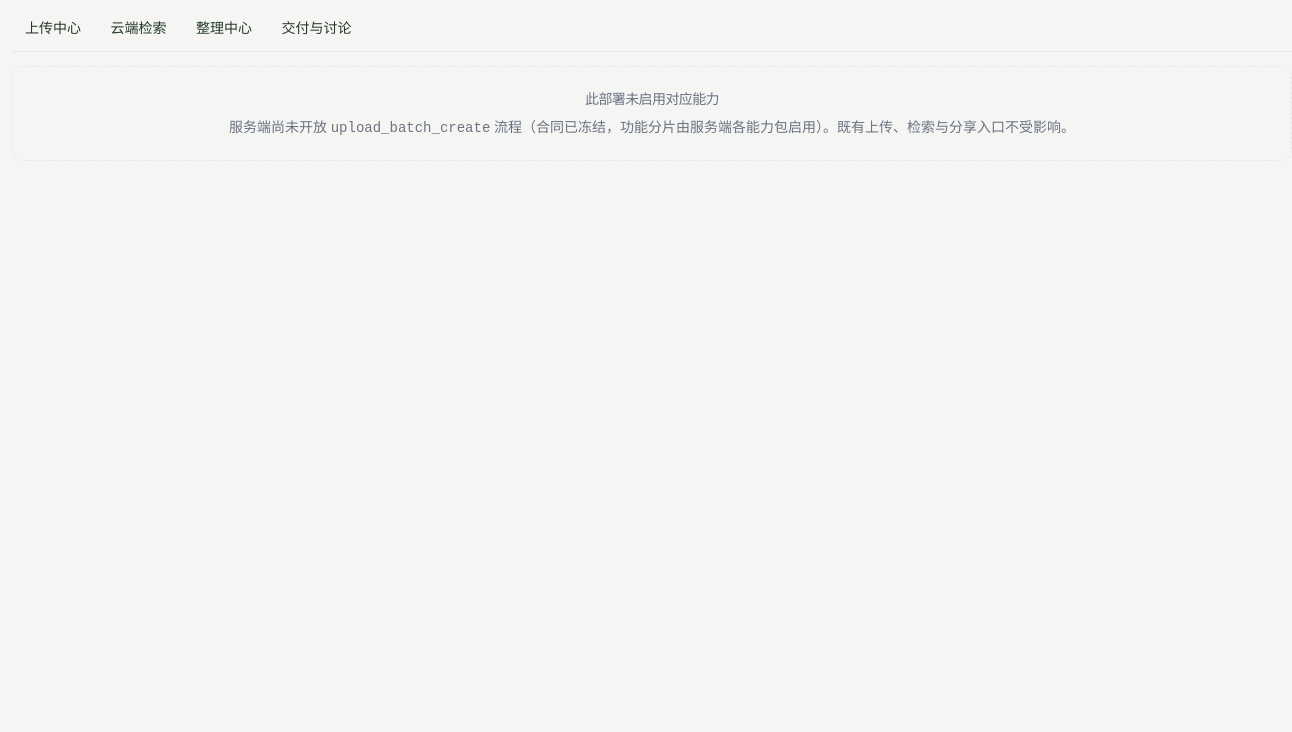
it: TestFPPlatformConsumers/page › degrades each center honestly when the deployment has not enabled the surface
expect the heading "此部署未启用对应能力" is shown: met, box left=585, top=90, right=719, bottom=107
expect the text "upload_batch_create" is shown: met, box left=331, top=120, right=490, bottom=136
Click the tab "云端检索": click(138, 28) left=98, top=12, right=180, bottom=44
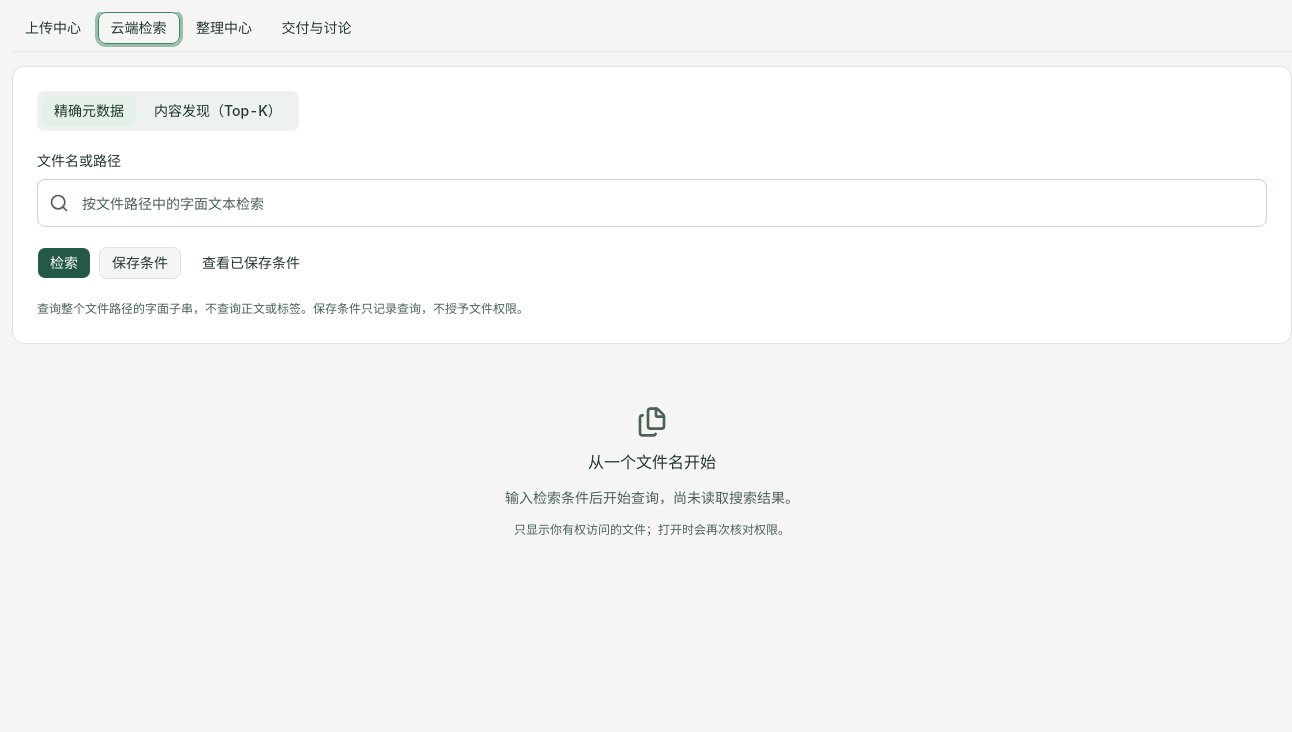
expect the search field named "检索条件" is shown: met, box left=37, top=179, right=1267, bottom=227
expect the button "检索" is enabled: met, box left=37, top=247, right=91, bottom=279
Click the radio button labelled "内容发现（Top-K）": click(218, 111) left=141, top=95, right=295, bottom=127
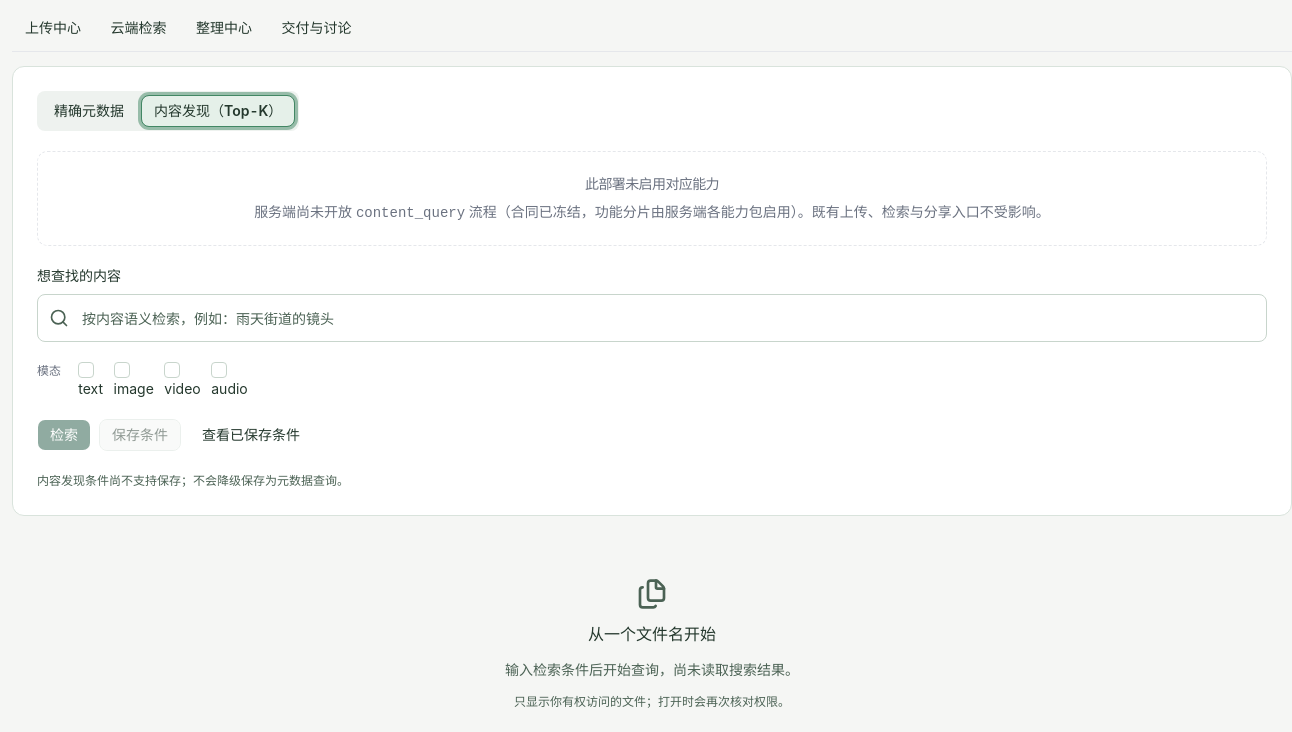
expect the text "content_query" is shown: met, box left=356, top=205, right=465, bottom=221
expect the text "既有上传、检索与分享入口不受影响" is shown: met, box left=465, top=203, right=1050, bottom=220
